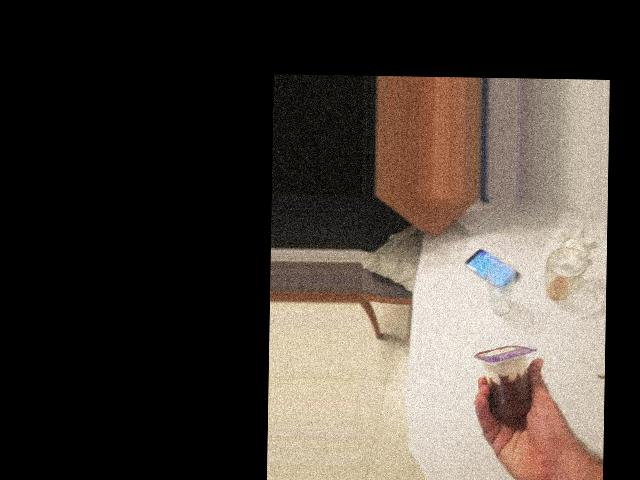milky: (369, 314, 460, 375)
